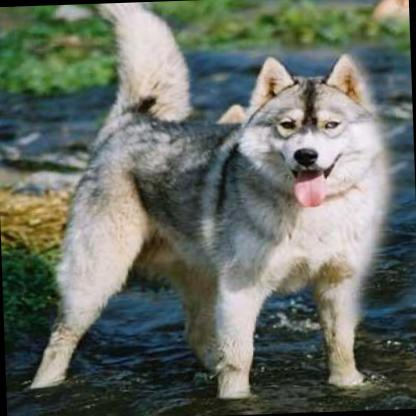Siberian_husky: (12, 0, 392, 403)
